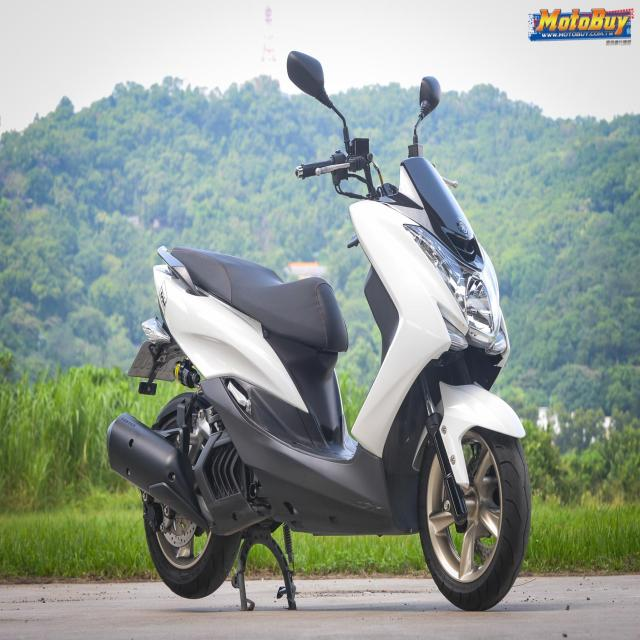Bike: (108, 51, 530, 611)
